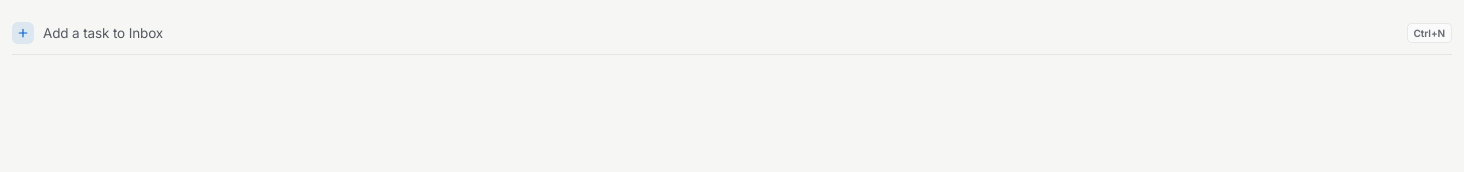
Scenario: the two states (§6.1b) › closes on Escape, and adds nothing
The width and height of the screenshot is (1464, 172).
Click the button "Add a task to Inbox Ctrl+N".
click(103, 33)  # box top-left (12, 12), bottom-right (1452, 54)
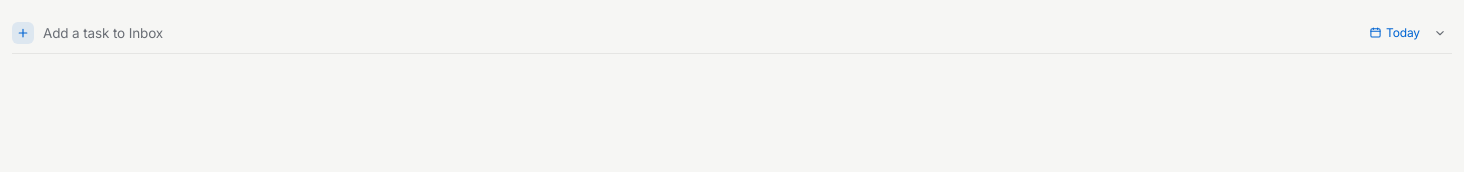
Type "Half a thought" into the field labelled "Add a task to Inbox".
click(698, 32); type("Half a thought")  # box top-left (43, 24), bottom-right (1354, 40)
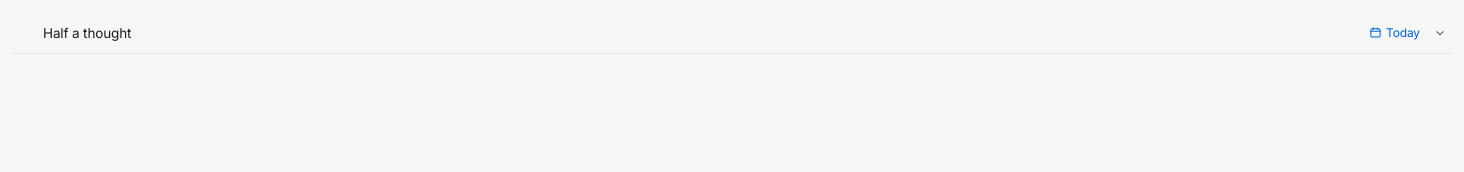
Press Escape in the field named "Add a task", box top-left (43, 24), bottom-right (1354, 40)
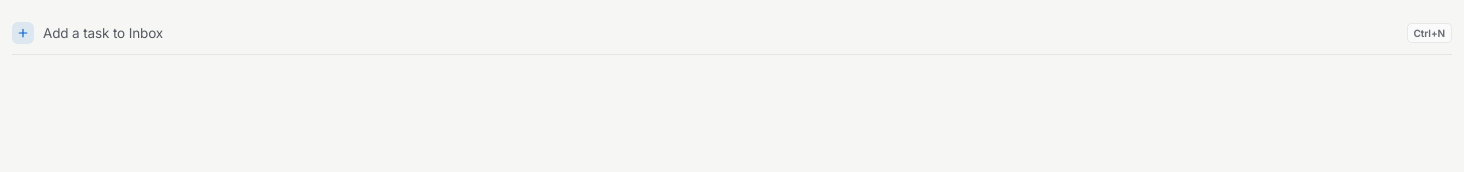
Expected: the button "Add a task to Inbox Ctrl+N" is shown, top-left (12, 12), bottom-right (1452, 54)
